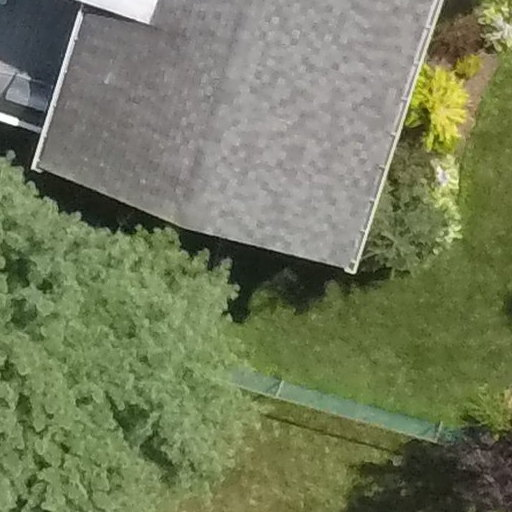fence: (189, 344, 472, 464)
